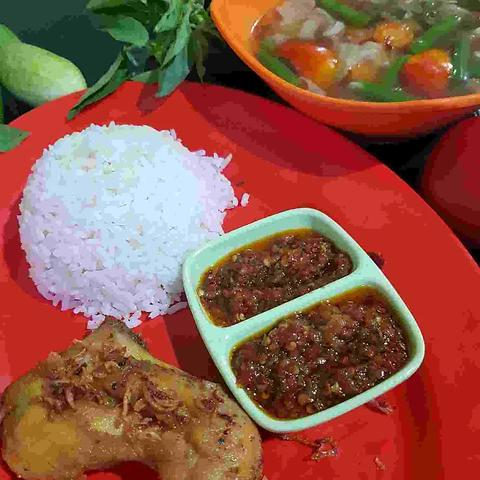buah_sayur_lainnya: (290, 20, 460, 61), (269, 340, 356, 386), (228, 260, 305, 293), (9, 57, 66, 90)
daging: (47, 366, 196, 447)
makanan_berpati: (56, 149, 158, 267)
